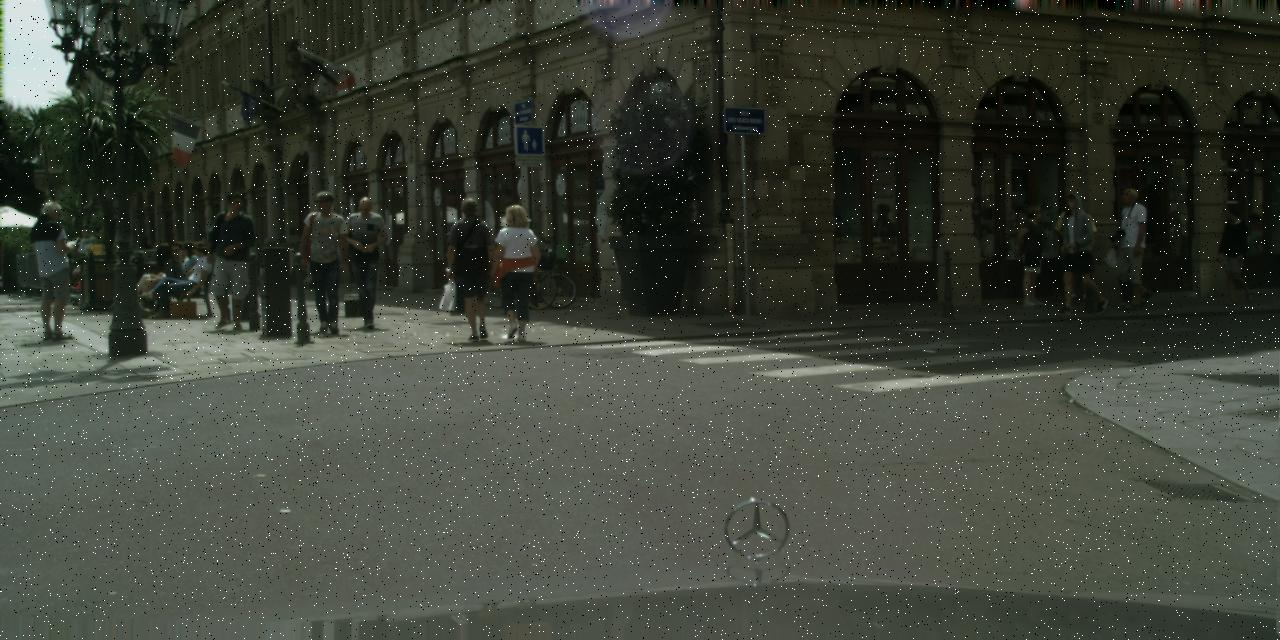ped: (443, 198, 502, 342), (297, 190, 355, 332), (23, 201, 80, 340), (204, 190, 260, 330), (487, 204, 543, 341), (341, 196, 394, 328), (1054, 193, 1104, 313), (1112, 188, 1160, 307), (1056, 196, 1098, 302), (1015, 205, 1056, 305), (1216, 206, 1256, 304), (68, 226, 95, 292)
